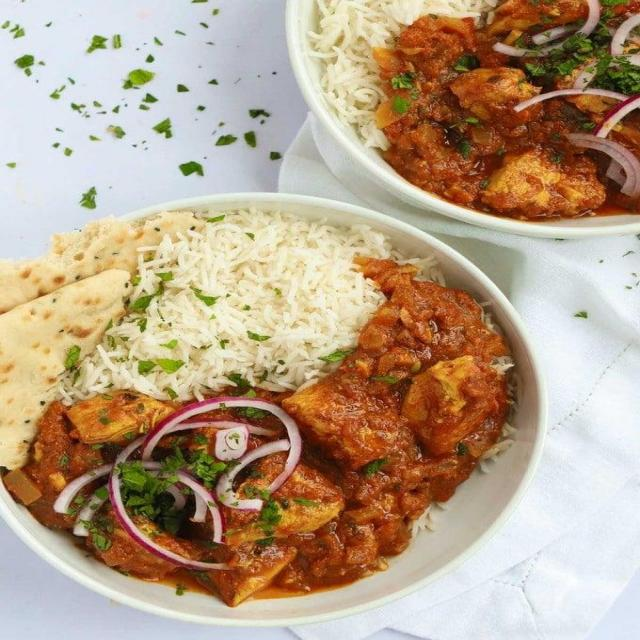chicken: (9, 271, 515, 587), (400, 3, 640, 217)
rice: (118, 202, 360, 382), (315, 1, 386, 150)
roti: (7, 245, 104, 426)
